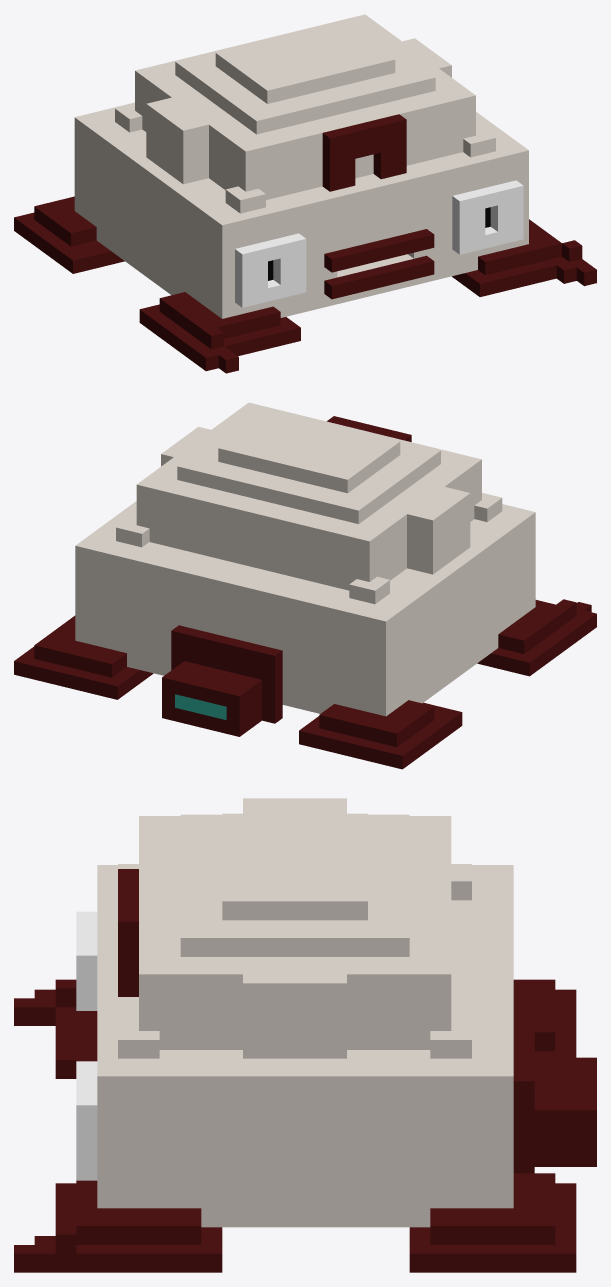
The model's file is anm.obj.
3 views of the same model, one above another, from view 1: azimuth 30°, elevation 25°; view 2: azimuth 150°, elevation 25°; view 3: azimuth 270°, elevation 25° (orthographic). The views are drawn at different scales.
Bounding box in the file's own units: 3 × 1.5 × 2.8.
Materials: 1 (1 with a texture image).
